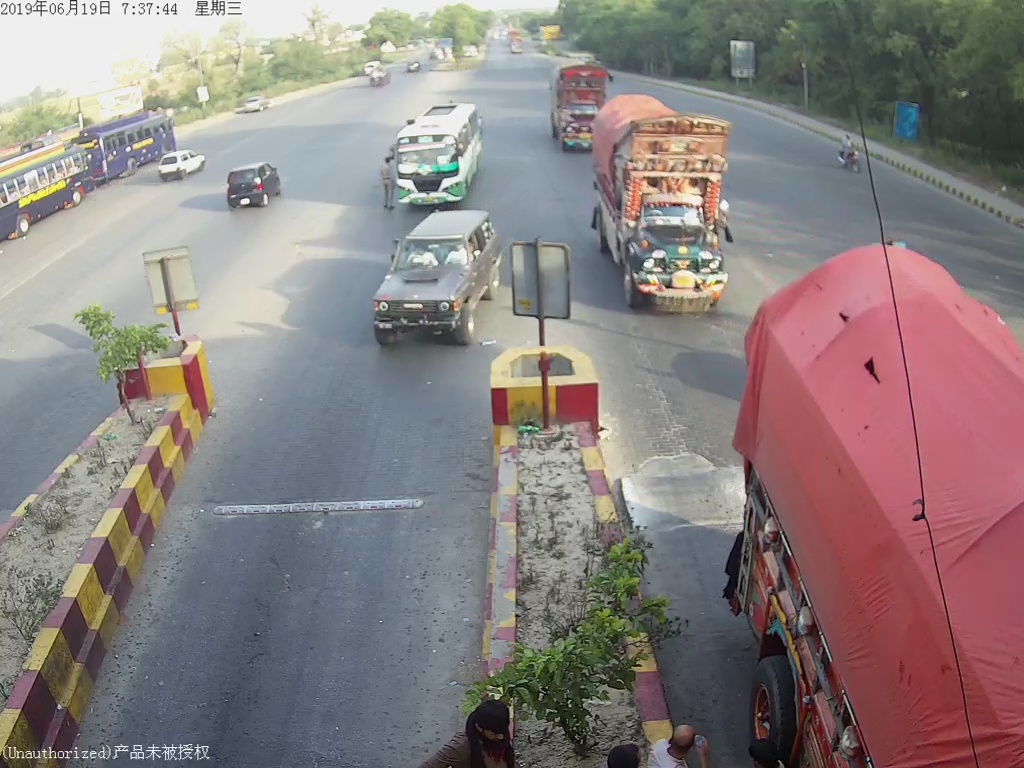Cat-1: (375, 203, 500, 341)
Cat-3: (389, 97, 488, 205)
Cat-4: (593, 96, 740, 309), (548, 59, 611, 152)
